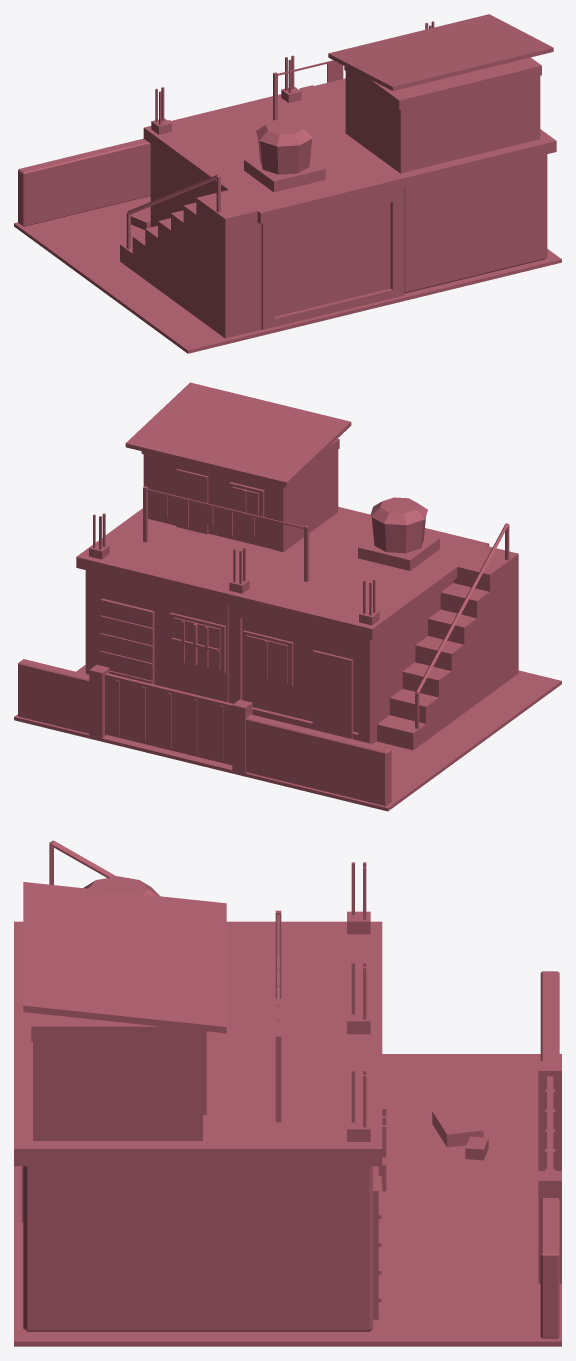
3 views of the same model, one above another, from view 1: azimuth 30°, elevation 25°; view 2: azimuth 150°, elevation 25°; view 3: azimuth 270°, elevation 25° (orthographic). The views are drawn at different scales.
Parts seen in each view (by area): view 1: corpo; view 2: corpo; view 3: corpo.
Part boxes in pixels (x1,y1,x2,y2): corpo: (14,14,561,353); corpo: (14,382,561,811); corpo: (14,840,561,1346).
Bounding box in the file's own units: 1.44 × 0.787 × 1.16.
